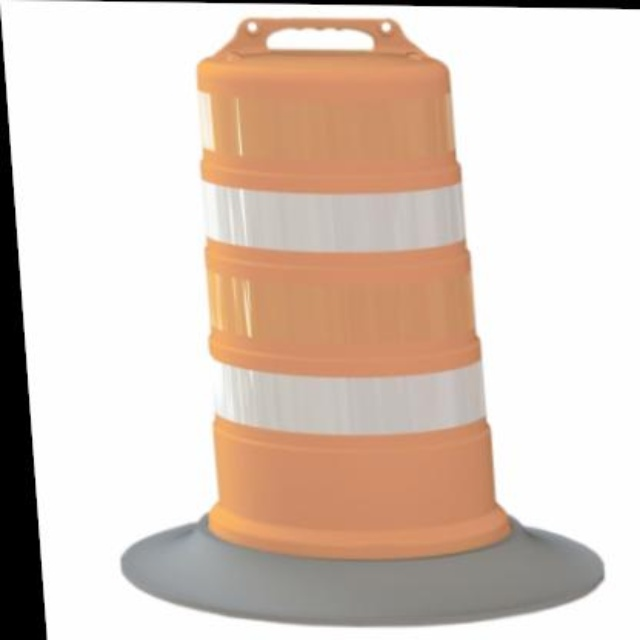obstacle: (157, 13, 505, 578)
